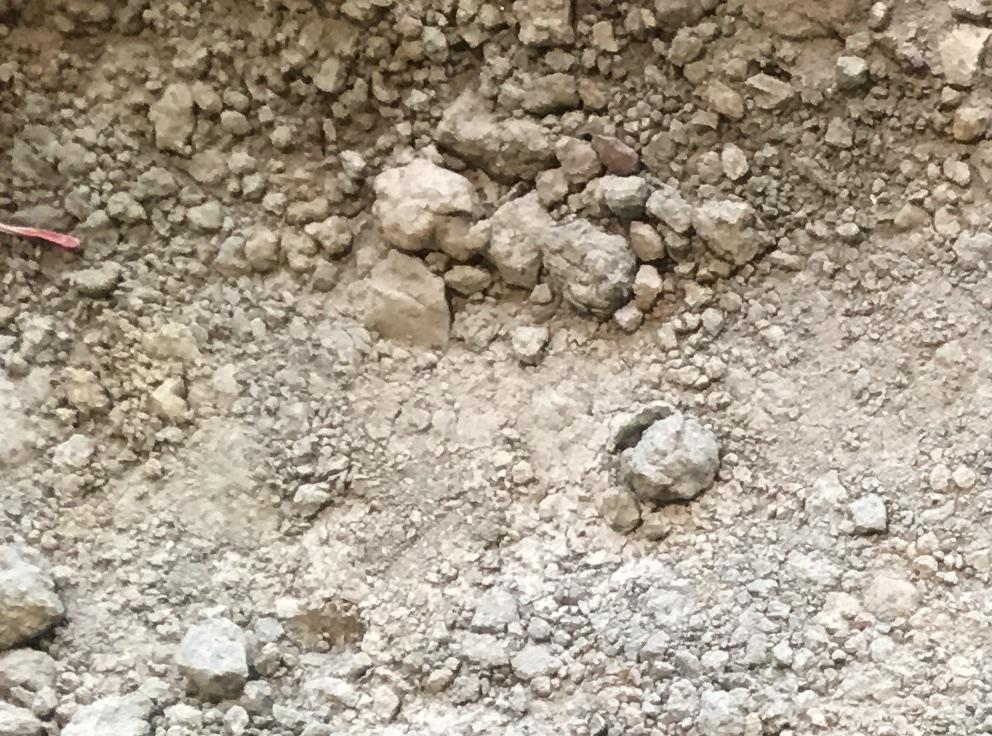block: (477, 196, 641, 319), (622, 406, 722, 509), (372, 155, 480, 249), (1, 548, 65, 650), (173, 617, 252, 696)
